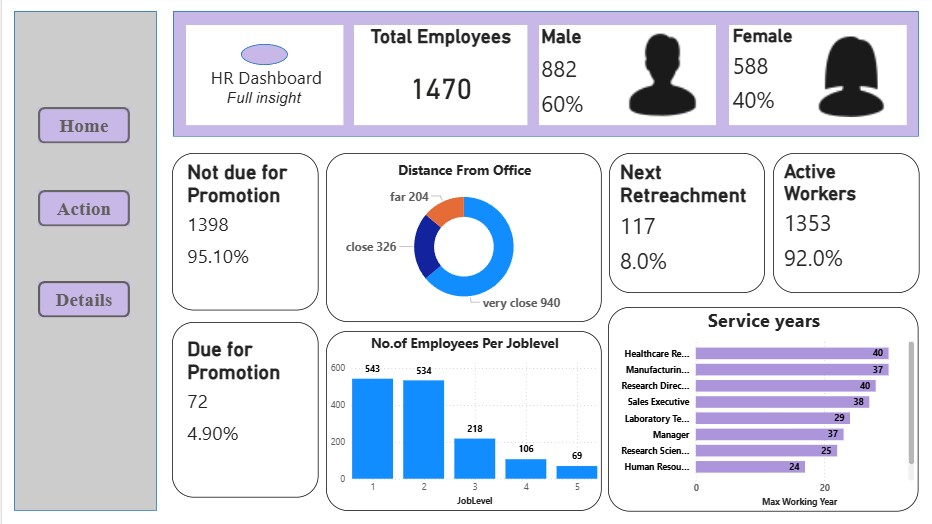

Layout of this report page (visuals, bound fields, positions):
{"tool":"powerbi","page":{"name":"Home","canvas":[1282,734],"ordinal":0},"visuals":[{"type":"shape","box":[235.4,20.6,1028.1,173.4],"z":0},{"type":"card","title":"Total Employees","fields":{"Values":["in.Total employees"]},"box":[485.8,39.9,239.5,137.6],"z":1000},{"type":"columnChart","title":"No.of Employees Per Joblevel","fields":{"Category":["in.JobLevel"],"Y":["CountNonNull(in.EmployeeNumber)"]},"box":[446.4,462.2,380.2,247.7],"z":2000},{"type":"donutChart","title":"Distance From Office","fields":{"Category":["in.distance"],"Y":["in.Total employees"]},"box":[446.4,216,380.2,233.3],"z":3000},{"type":"textbox","box":[253.2,39.9,217.5,137.6],"z":4000},{"type":"multiRowCard","title":" Due for Promotion","fields":{"Values":["in.promotion1","in.promotion%"]},"box":[234.7,449.3,201.6,241.9],"z":5000},{"type":"multiRowCard","title":"Not due for Promotion","fields":{"Values":["in.notpromote","in.notpromot%"]},"box":[234.7,216,201.6,217.4],"z":6000},{"type":"multiRowCard","title":"Active Workers","fields":{"Values":["in.activeworkers","in.actwor%"]},"box":[1062.7,216,201.6,193],"z":7000},{"type":"multiRowCard","title":"Next Retreachment","fields":{"Values":["in.retreachment","in.retrech%"]},"box":[836.6,216,214.6,193],"z":8000},{"type":"clusteredBarChart","title":"     Service years","fields":{"Y":["Count(in.TotalWorkingYears)"],"Category":["in.JobRole"]},"box":[835.4,428,428,282.2],"z":9000},{"type":"multiRowCard","title":"Female","fields":{"Values":["in.Female","in.Female %"]},"box":[1002,39.9,245,137.6],"z":10000},{"type":"shape","box":[16.5,20.7,197.1,689.2],"z":11000},{"type":"actionButton","box":[49,267.8,126.7,50.4],"z":12000},{"type":"actionButton","box":[49,152.6,126.7,50.4],"z":13000},{"type":"actionButton","box":[49,393.1,126.7,50.4],"z":14000},{"type":"multiRowCard","title":"Male","fields":{"Values":["in.Male","in.Male %"]},"box":[740.5,39.9,243.6,137.6],"z":15000},{"type":"shape","box":[328.9,66.1,64.7,28.9],"z":16000},{"type":"image","box":[825.8,46.8,174.8,123.9],"z":17000},{"type":"image","box":[1112.1,46.8,121.1,128],"z":18000}]}

Visuals, with their boxes in screenshot pixels (x1, y1, x2, y2), scaled from the page's 1282x734 canvas onto the 932x524 screenshot:
shape: (171, 15, 919, 138)
"Total Employees" card: (353, 28, 527, 127)
"No.of Employees Per Joblevel" columnChart: (325, 330, 601, 507)
"Distance From Office" donutChart: (325, 154, 601, 321)
textbox: (184, 28, 342, 127)
" Due for Promotion" multiRowCard: (171, 321, 317, 493)
"Not due for Promotion" multiRowCard: (171, 154, 317, 309)
"Active Workers" multiRowCard: (773, 154, 919, 292)
"Next Retreachment" multiRowCard: (608, 154, 764, 292)
"     Service years" clusteredBarChart: (607, 306, 918, 507)
"Female" multiRowCard: (728, 28, 907, 127)
shape: (12, 15, 155, 507)
actionButton: (36, 191, 128, 227)
actionButton: (36, 109, 128, 145)
actionButton: (36, 281, 128, 317)
"Male" multiRowCard: (538, 28, 715, 127)
shape: (239, 47, 286, 68)
image: (600, 33, 727, 122)
image: (808, 33, 897, 125)
